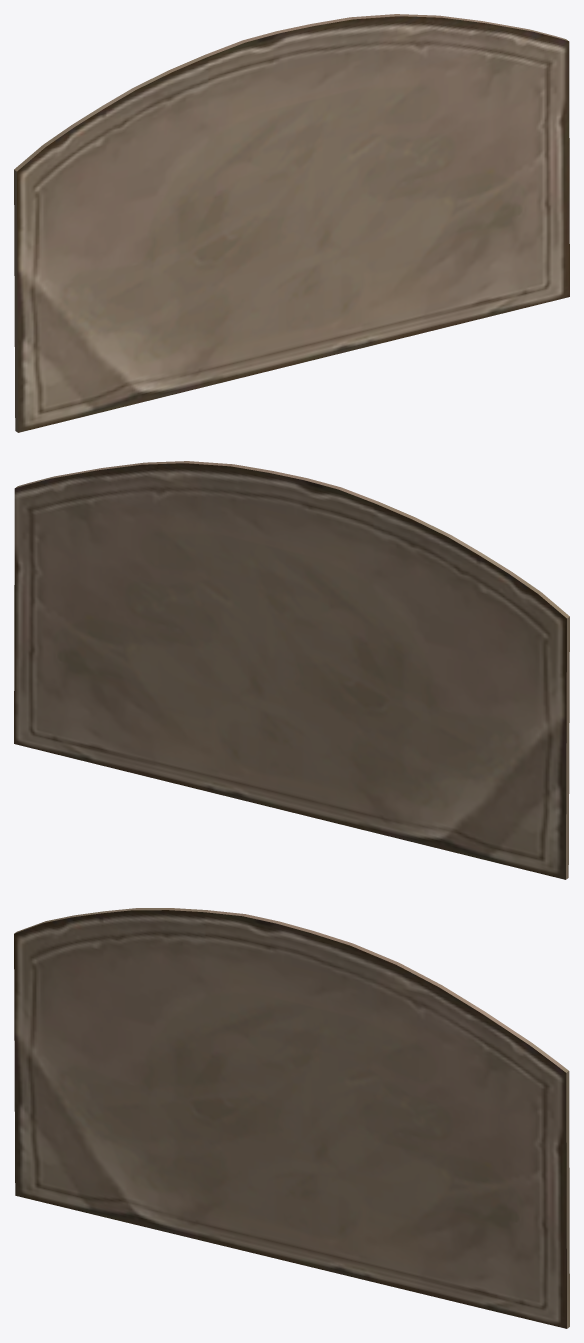
The model's file is CardText.glb.
3 renders of one model, top to bottom at view 1: azimuth 30°, elevation 25°; view 2: azimuth 150°, elevation 25°; view 3: azimuth 330°, elevation 25°, orthographic.
Visible parts, largest first — view 1: Circle.003; view 2: Circle.003; view 3: Circle.003.
Boxes of the visible parts, left/top/right/bottom form: Circle.003: left=14, top=14, right=569, bottom=432; Circle.003: left=14, top=461, right=569, bottom=879; Circle.003: left=14, top=908, right=569, bottom=1328.
Bounding box in the file's own units: 5.48 × 3.18 × 0.05.
Materials: 1 (1 with a texture image).
